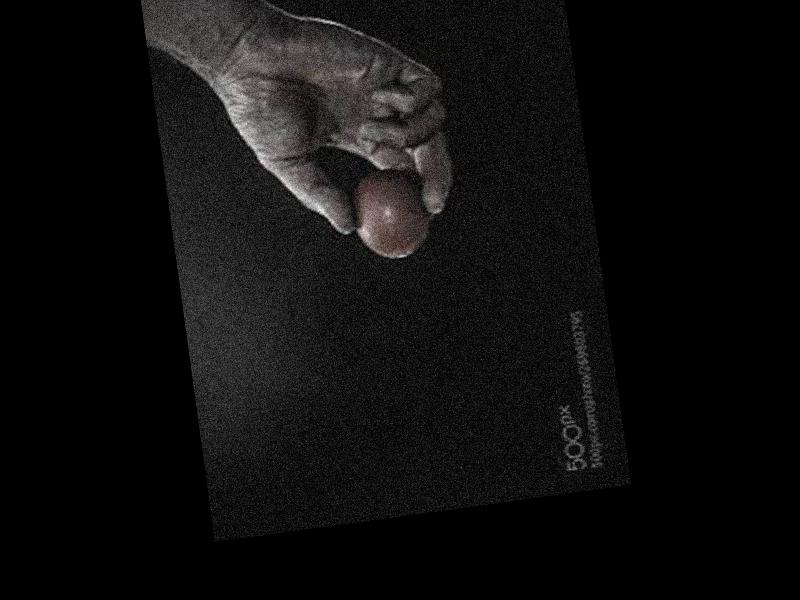Eggs: (345, 161, 432, 263)
